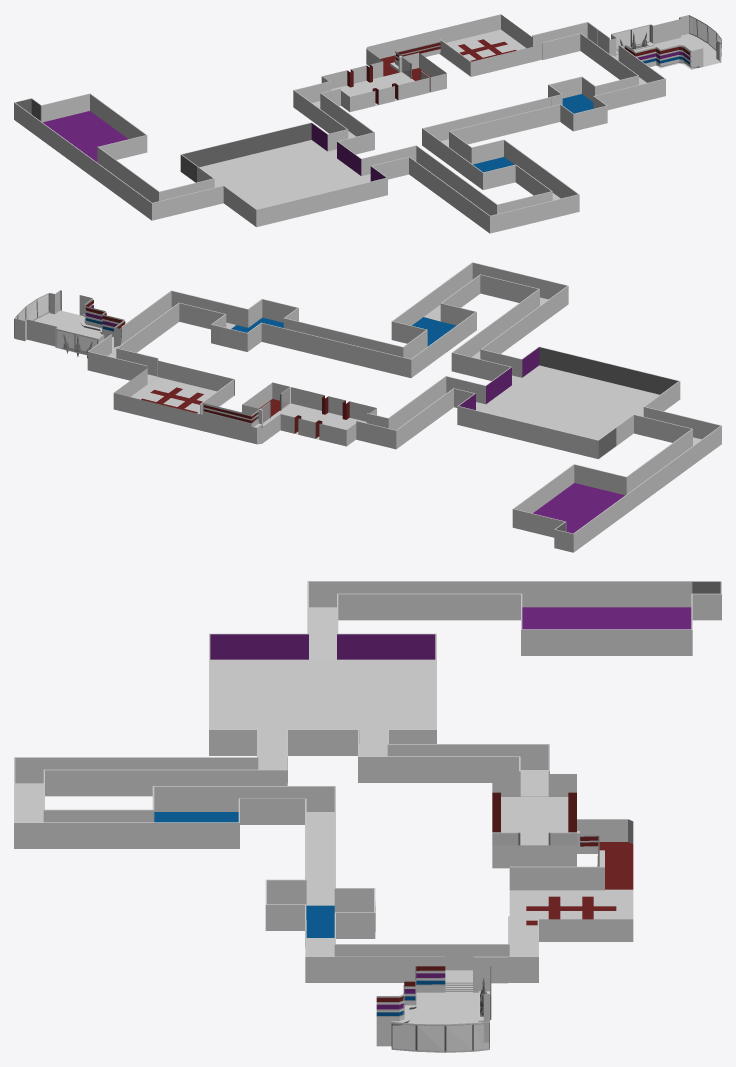
Rendered from Building_Master_Color.fbx.
3 renders of one model, top to bottom at view 1: azimuth 30°, elevation 25°; view 2: azimuth 150°, elevation 25°; view 3: azimuth 270°, elevation 25°, orthographic. The views are drawn at different scales.
Parts seen in each view (by area): view 1: R_D_setpiece:pCube1, pasted__pasted__pCube1 (×8), cubibles_setpiece:pPlane1, Masterv1:polySurface1, pasted__pasted__pasted__pCube1 (×5), pPlane1, pasted__pCube1 (×3), Masterv1:pCube4, serverroom_setpiece:pCube1, pasted__pasted__pCube2 (×4), pasted__pCube2 (×3), pCube1 (+3 smaller); view 2: R_D_setpiece:pCube1, cubibles_setpiece:pPlane1, pasted__pasted__pCube1 (×7), Masterv1:polySurface1, pasted__pasted__pasted__pCube1 (×4), pasted__pCube1 (×3), pPlane1, Masterv1:pCube4, serverroom_setpiece:pCube1, pasted__pasted__pCube2 (×2), pCube1, pasted__pasted__pasted__pasted__pCube1 (+2 smaller); view 3: R_D_setpiece:pCube1, pasted__pasted__pCube1 (×7), cubibles_setpiece:pPlane1, Masterv1:polySurface1, pasted__pasted__pasted__pCube1 (×3), pPlane1, serverroom_setpiece:pCube1, Masterv1:pCube4, pasted__pCube1 (×2), pasted__pCube2 (×4), pasted__pasted__pCube2 (×3), pasted__pasted__pasted__pCube2 (+1 smaller).
Boxes of the visible parts, x1,y1,x2,y2 form: R_D_setpiece:pCube1: (180,122,387,227); pasted__pasted__pCube1 (×8): (159,29,608,225); cubibles_setpiece:pPlane1: (321,14,542,111); Masterv1:polySurface1: (14,93,147,168); pasted__pasted__pasted__pCube1 (×5): (80,93,469,212); pPlane1: (610,15,721,69); pasted__pCube1 (×3): (497,26,654,229); Masterv1:pCube4: (548,76,616,131); serverroom_setpiece:pCube1: (454,139,532,190); pasted__pasted__pCube2 (×4): (141,124,449,220); pasted__pCube2 (×3): (479,22,597,233); pCube1: (606,75,647,107); R_D_setpiece:pCube1: (457,346,680,459); cubibles_setpiece:pPlane1: (113,360,376,446); pasted__pasted__pCube1 (×7): (273,270,702,445); Masterv1:polySurface1: (512,464,645,552); pasted__pasted__pasted__pCube1 (×4): (371,342,710,499); pasted__pCube1 (×3): (106,267,549,383); pPlane1: (14,290,125,355); Masterv1:pCube4: (211,299,298,351); serverroom_setpiece:pCube1: (391,298,476,352); pasted__pasted__pCube2 (×2): (392,344,481,377); pCube1: (179,295,224,329); pasted__pasted__pasted__pasted__pCube1: (356,413,387,444); R_D_setpiece:pCube1: (209,633,436,755); pasted__pasted__pCube1 (×7): (44,594,508,983); cubibles_setpiece:pPlane1: (492,774,633,941); Masterv1:polySurface1: (521,581,721,655); pasted__pasted__pasted__pCube1 (×3): (223,581,520,785); pPlane1: (376,964,491,1052); serverroom_setpiece:pCube1: (152,786,239,848); Masterv1:pCube4: (265,879,375,946); pasted__pCube1 (×2): (14,770,443,982); pasted__pCube2 (×4): (14,757,538,982); pasted__pasted__pCube2 (×3): (305,581,388,824); pasted__pasted__pasted__pCube2: (519,744,549,782).
Size of the model in its own units: 18555 by 762 by 12585.
